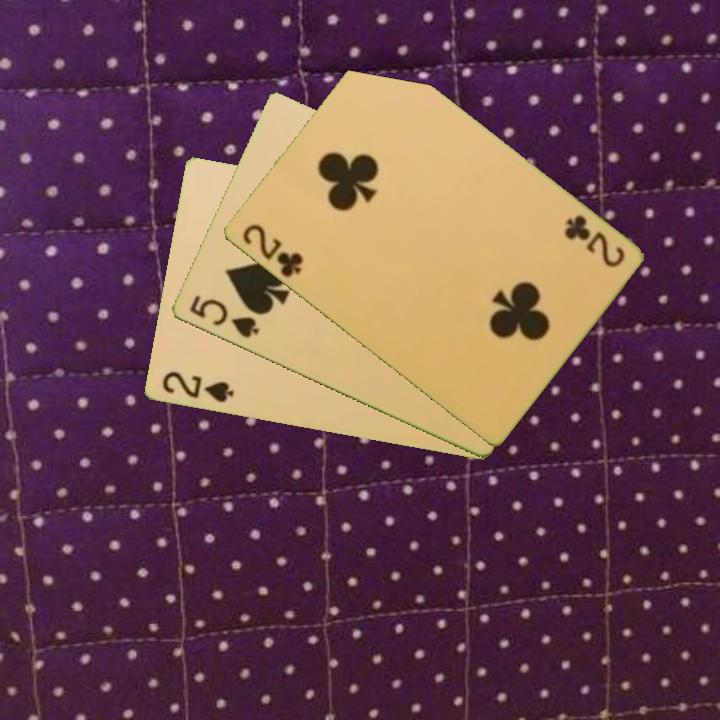2c: (238, 220, 306, 281), (560, 211, 627, 271)
2s: (158, 368, 236, 406)
5s: (185, 291, 261, 341)
